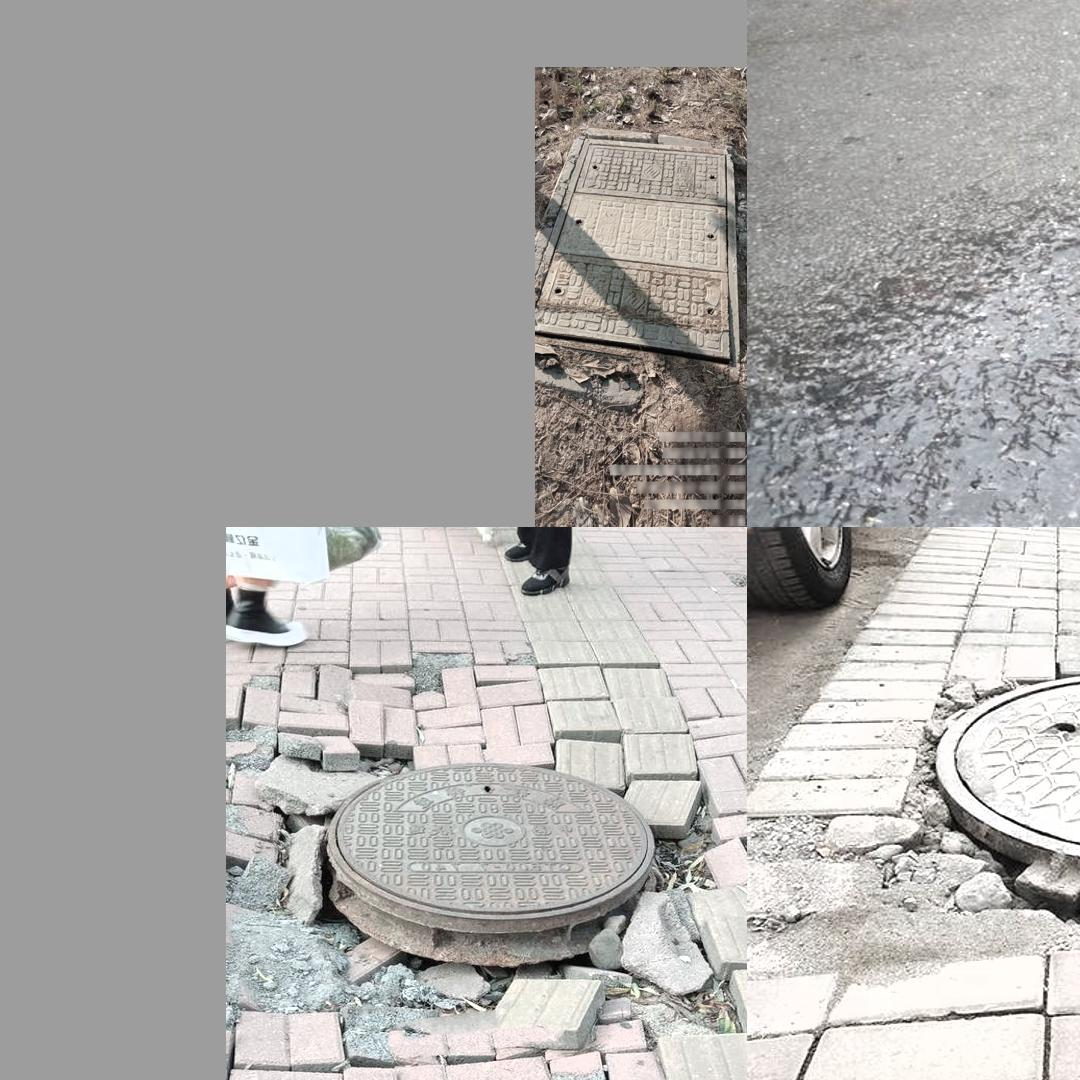circle: (232, 676, 735, 1080), (857, 657, 1080, 986), (535, 129, 744, 373)
